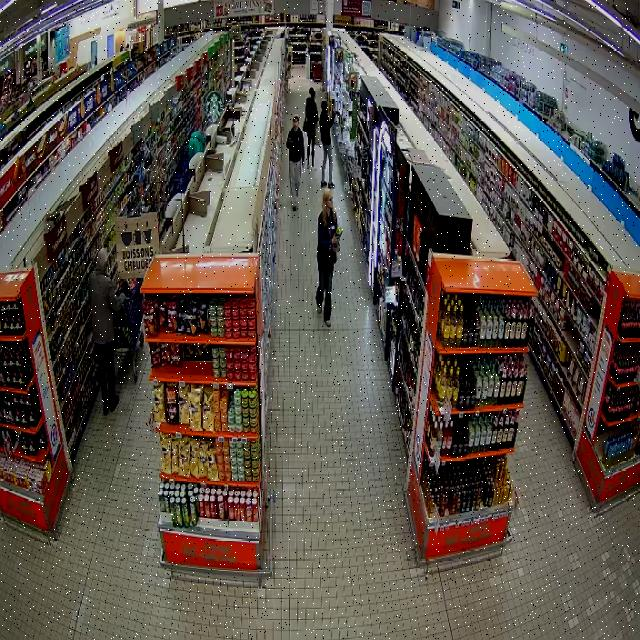article: (333, 226, 343, 239)
hands: (331, 236, 339, 252), (120, 293, 128, 303), (331, 236, 339, 245), (288, 138, 292, 146), (301, 159, 304, 167)
person: (315, 188, 341, 326), (286, 114, 304, 209)
